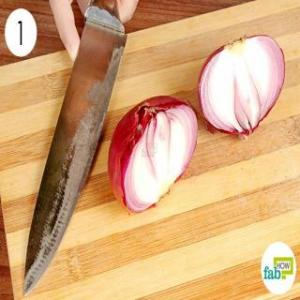onion: (105, 93, 199, 215), (198, 32, 286, 140)
